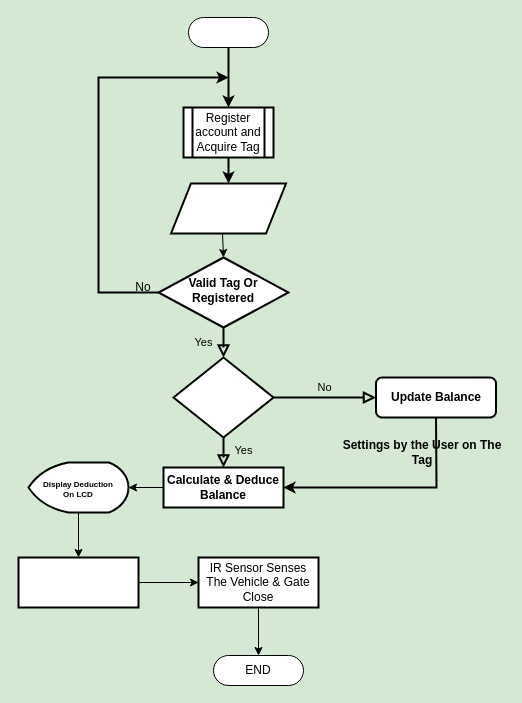
This 522x703 diagram has some shape labels left out. Each missing label, with the centre of its shape:
START: [228,32]
Sufficient Balance: [223,397]
Toll Plaza : Rfid Read Tag: [228,208]
Traffic Gate / Barrier OPEN: [78,582]
